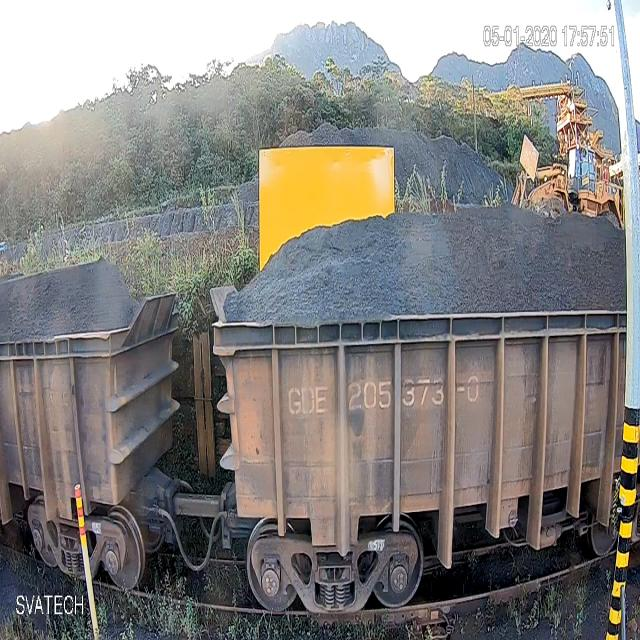gondola: (194, 182, 627, 622), (0, 236, 186, 602)
